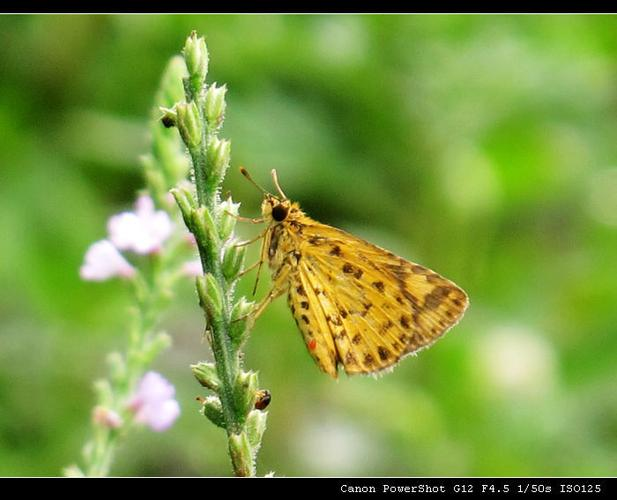Hesperiidae: (222, 163, 477, 379)
